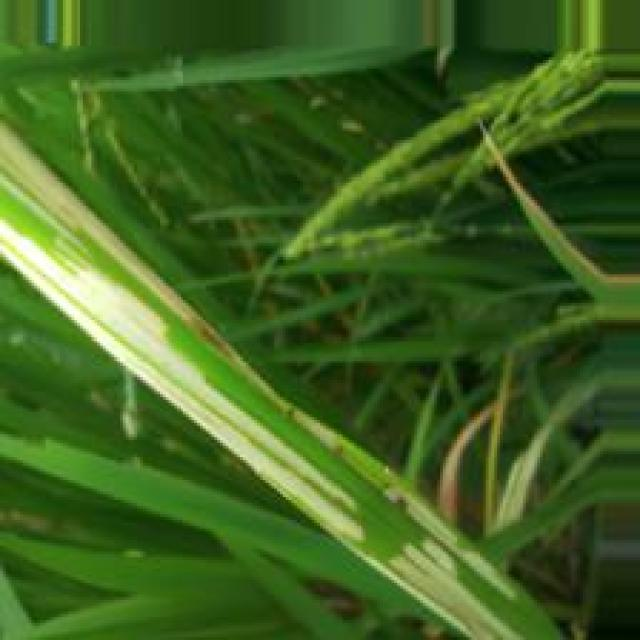Rice_Hispa: (0, 116, 525, 605), (0, 212, 361, 547), (375, 544, 521, 640)
